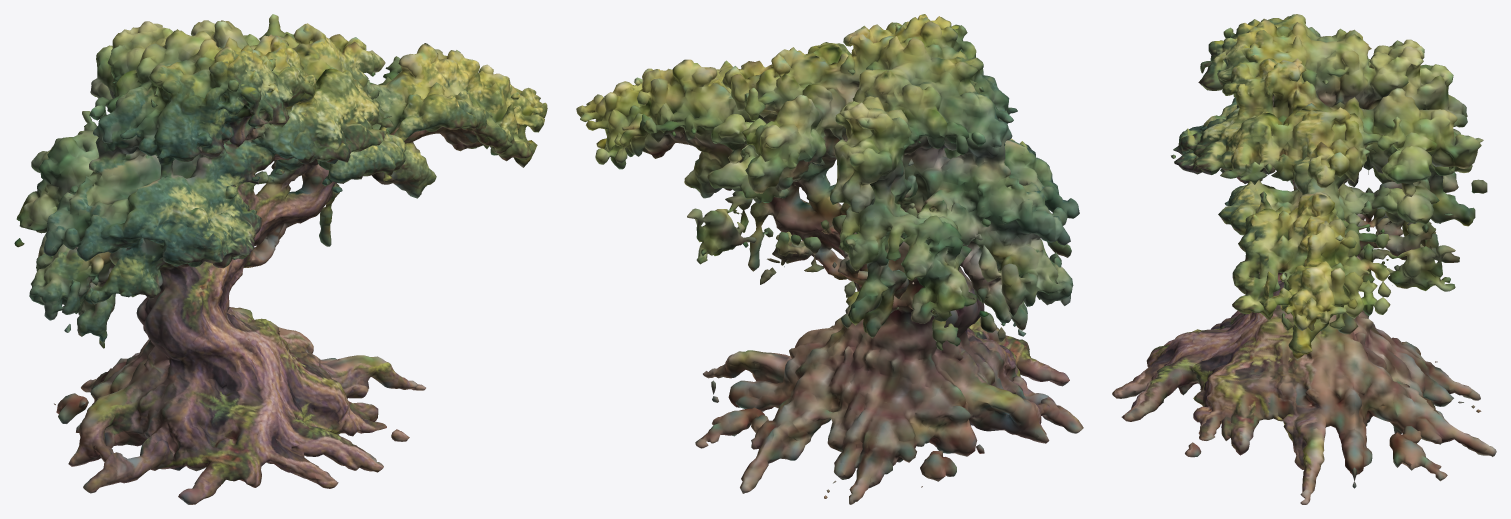
Rendered from elder-tree.glb.
The picture shows the model from 3 angles, left to right: view 1: azimuth 30°, elevation 25°; view 2: azimuth 150°, elevation 25°; view 3: azimuth 270°, elevation 25°; orthographic projection. The views are drawn at different scales.
Visible parts, largest first — view 1: Elder tree • original sculpt; view 2: Elder tree • original sculpt; view 3: Elder tree • original sculpt.
Boxes of the visible parts, box(x1,y1,x2,y2) form: Elder tree • original sculpt: box(14, 14, 547, 504); Elder tree • original sculpt: box(576, 14, 1083, 504); Elder tree • original sculpt: box(1112, 14, 1496, 504).
Bounding box in the file's own units: 15.62 × 12.4 × 10.76.
1 material, 1 textured.
